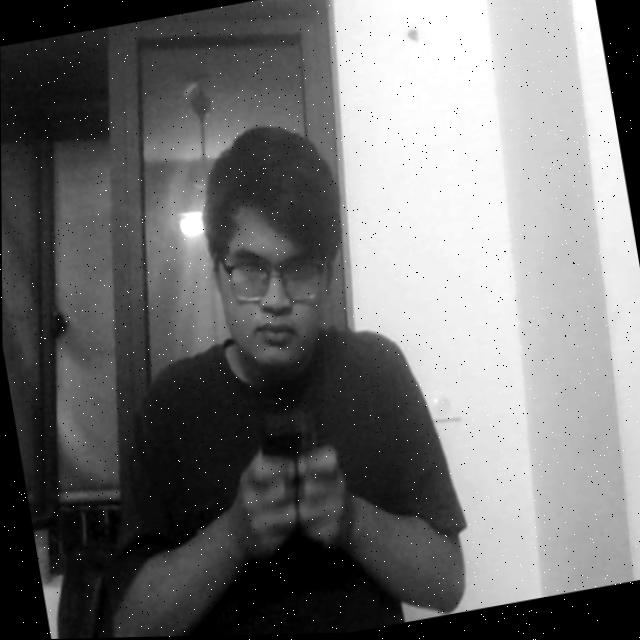phone: (239, 400, 345, 524)
